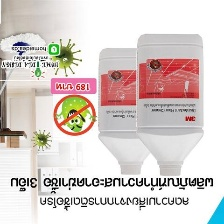cleaning_solution: (134, 31, 205, 178), (95, 43, 161, 177)
